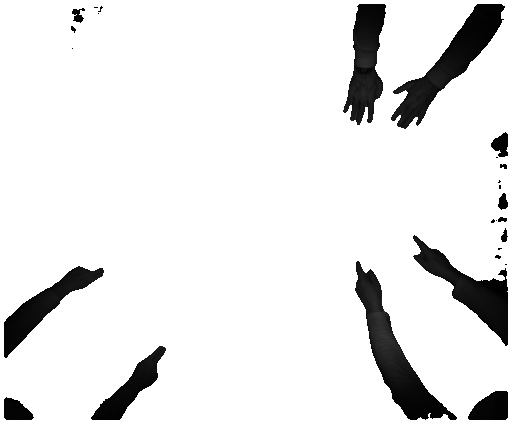hand: (336, 74, 385, 127), (391, 81, 441, 131), (408, 232, 458, 281), (352, 256, 385, 310), (131, 344, 167, 389), (59, 264, 103, 296)
